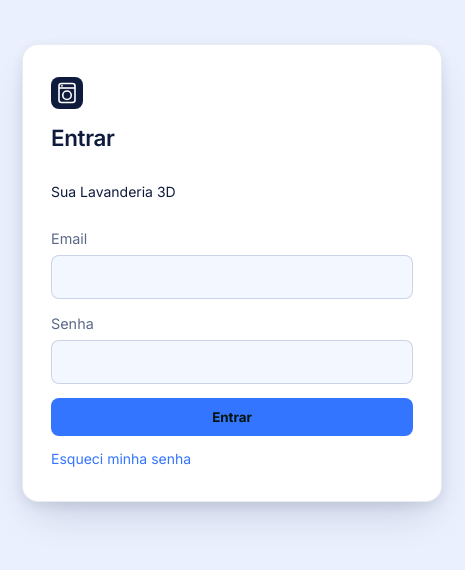
Test: LoginPage › mostra erro de credenciais inválidas sem detalhe técnico
The image size is (465, 570).
Type "a@b.com" into the field labelled "Email" at (232, 277), box left=51, top=255, right=413, bottom=299
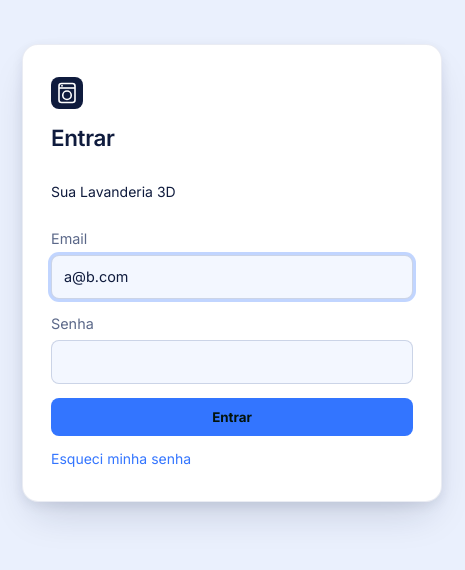
Type "errada123" into the password field labelled "Senha" at (232, 362), box left=51, top=340, right=413, bottom=384
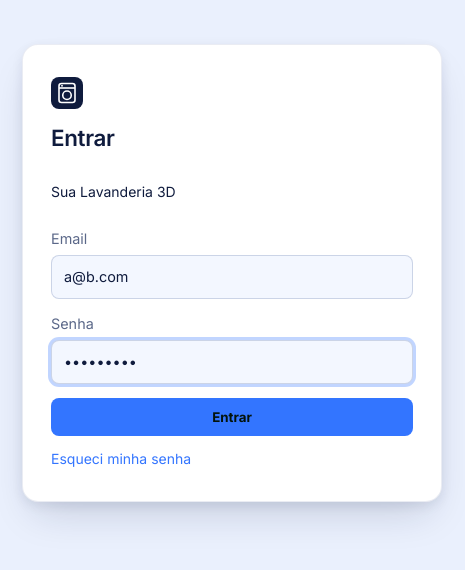
Click the button "Entrar" at (232, 417), box left=51, top=398, right=413, bottom=436
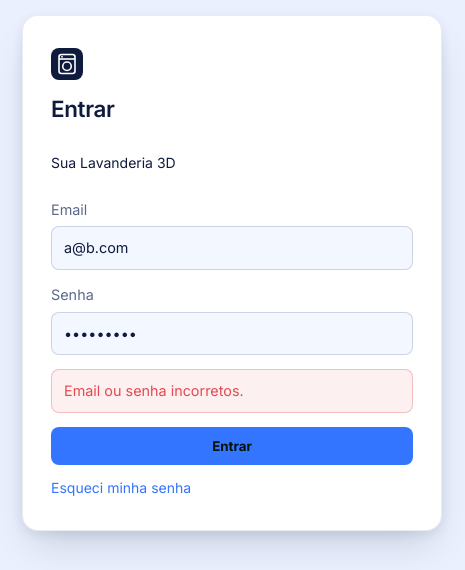
expect the text "Email ou senha incorretos." is shown: met, box left=51, top=369, right=413, bottom=413
